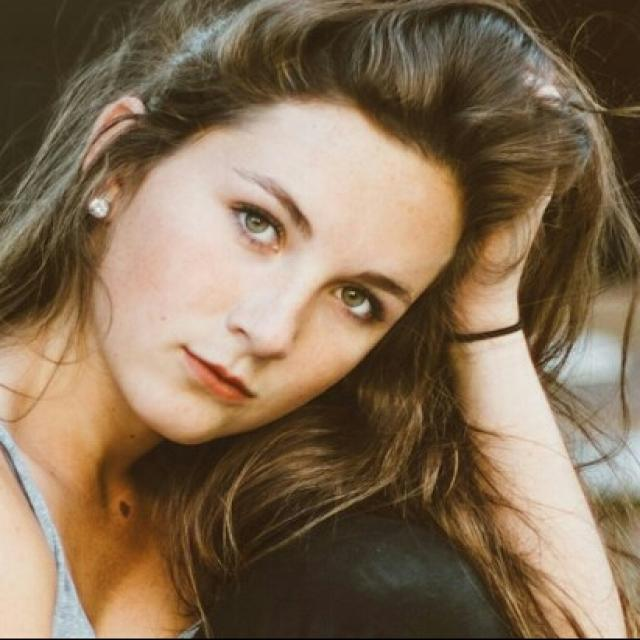front: (150, 158, 393, 421)
